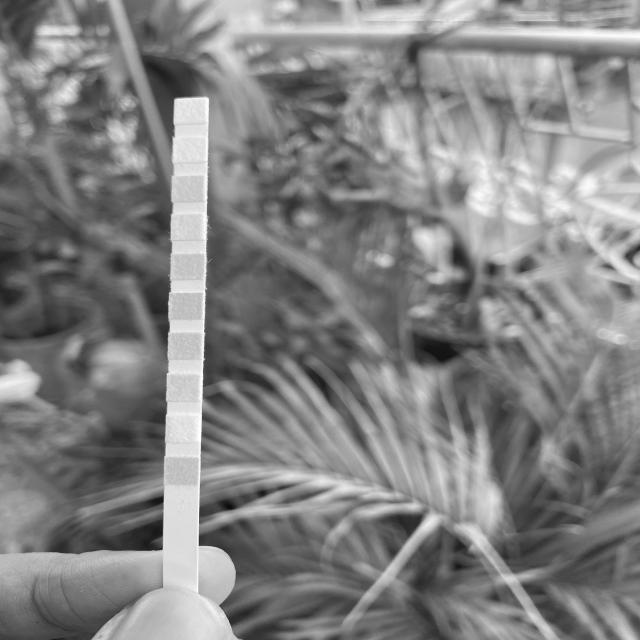Bilirubin: (167, 418, 199, 442)
Blood: (170, 294, 203, 318)
Glucose: (165, 458, 198, 483)
Ketone: (167, 376, 200, 401)
Leukocytes: (175, 99, 208, 123)
Nitrite: (174, 138, 207, 163)
Protein: (171, 215, 204, 239)
SpGravity: (169, 333, 201, 358)
Urobilinogen: (173, 177, 206, 201)
background: (0, 0, 640, 640)
pH: (171, 254, 203, 278)
strip: (163, 97, 209, 583)
